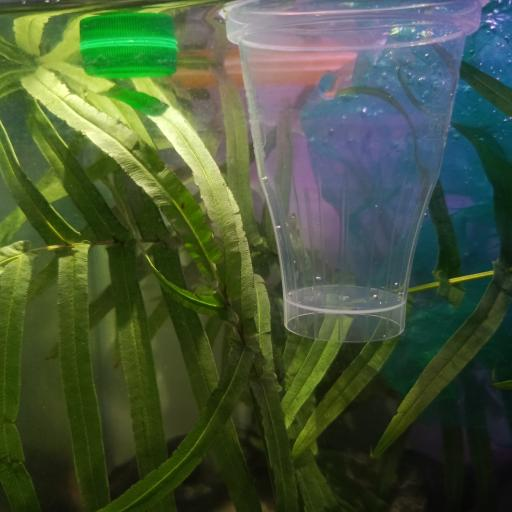bottle_cap: (81, 43, 181, 79)
plastic_bag: (310, 0, 512, 415)
plastic_cup: (221, 2, 484, 341)
plastic_straw: (177, 56, 342, 88)
